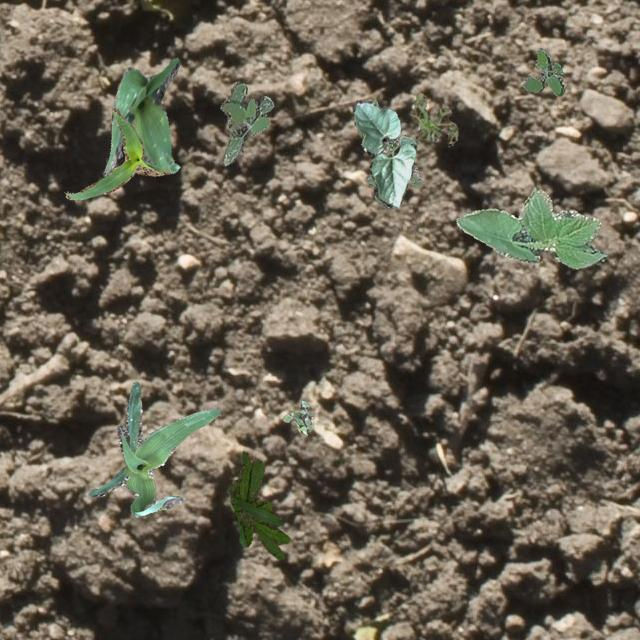crop: (88, 380, 220, 516), (454, 188, 606, 268), (64, 106, 170, 200), (104, 56, 180, 174), (352, 98, 416, 206)
weed: (228, 450, 288, 560), (364, 96, 422, 208), (220, 80, 272, 164), (409, 92, 456, 144), (522, 46, 564, 94), (282, 399, 312, 434)
